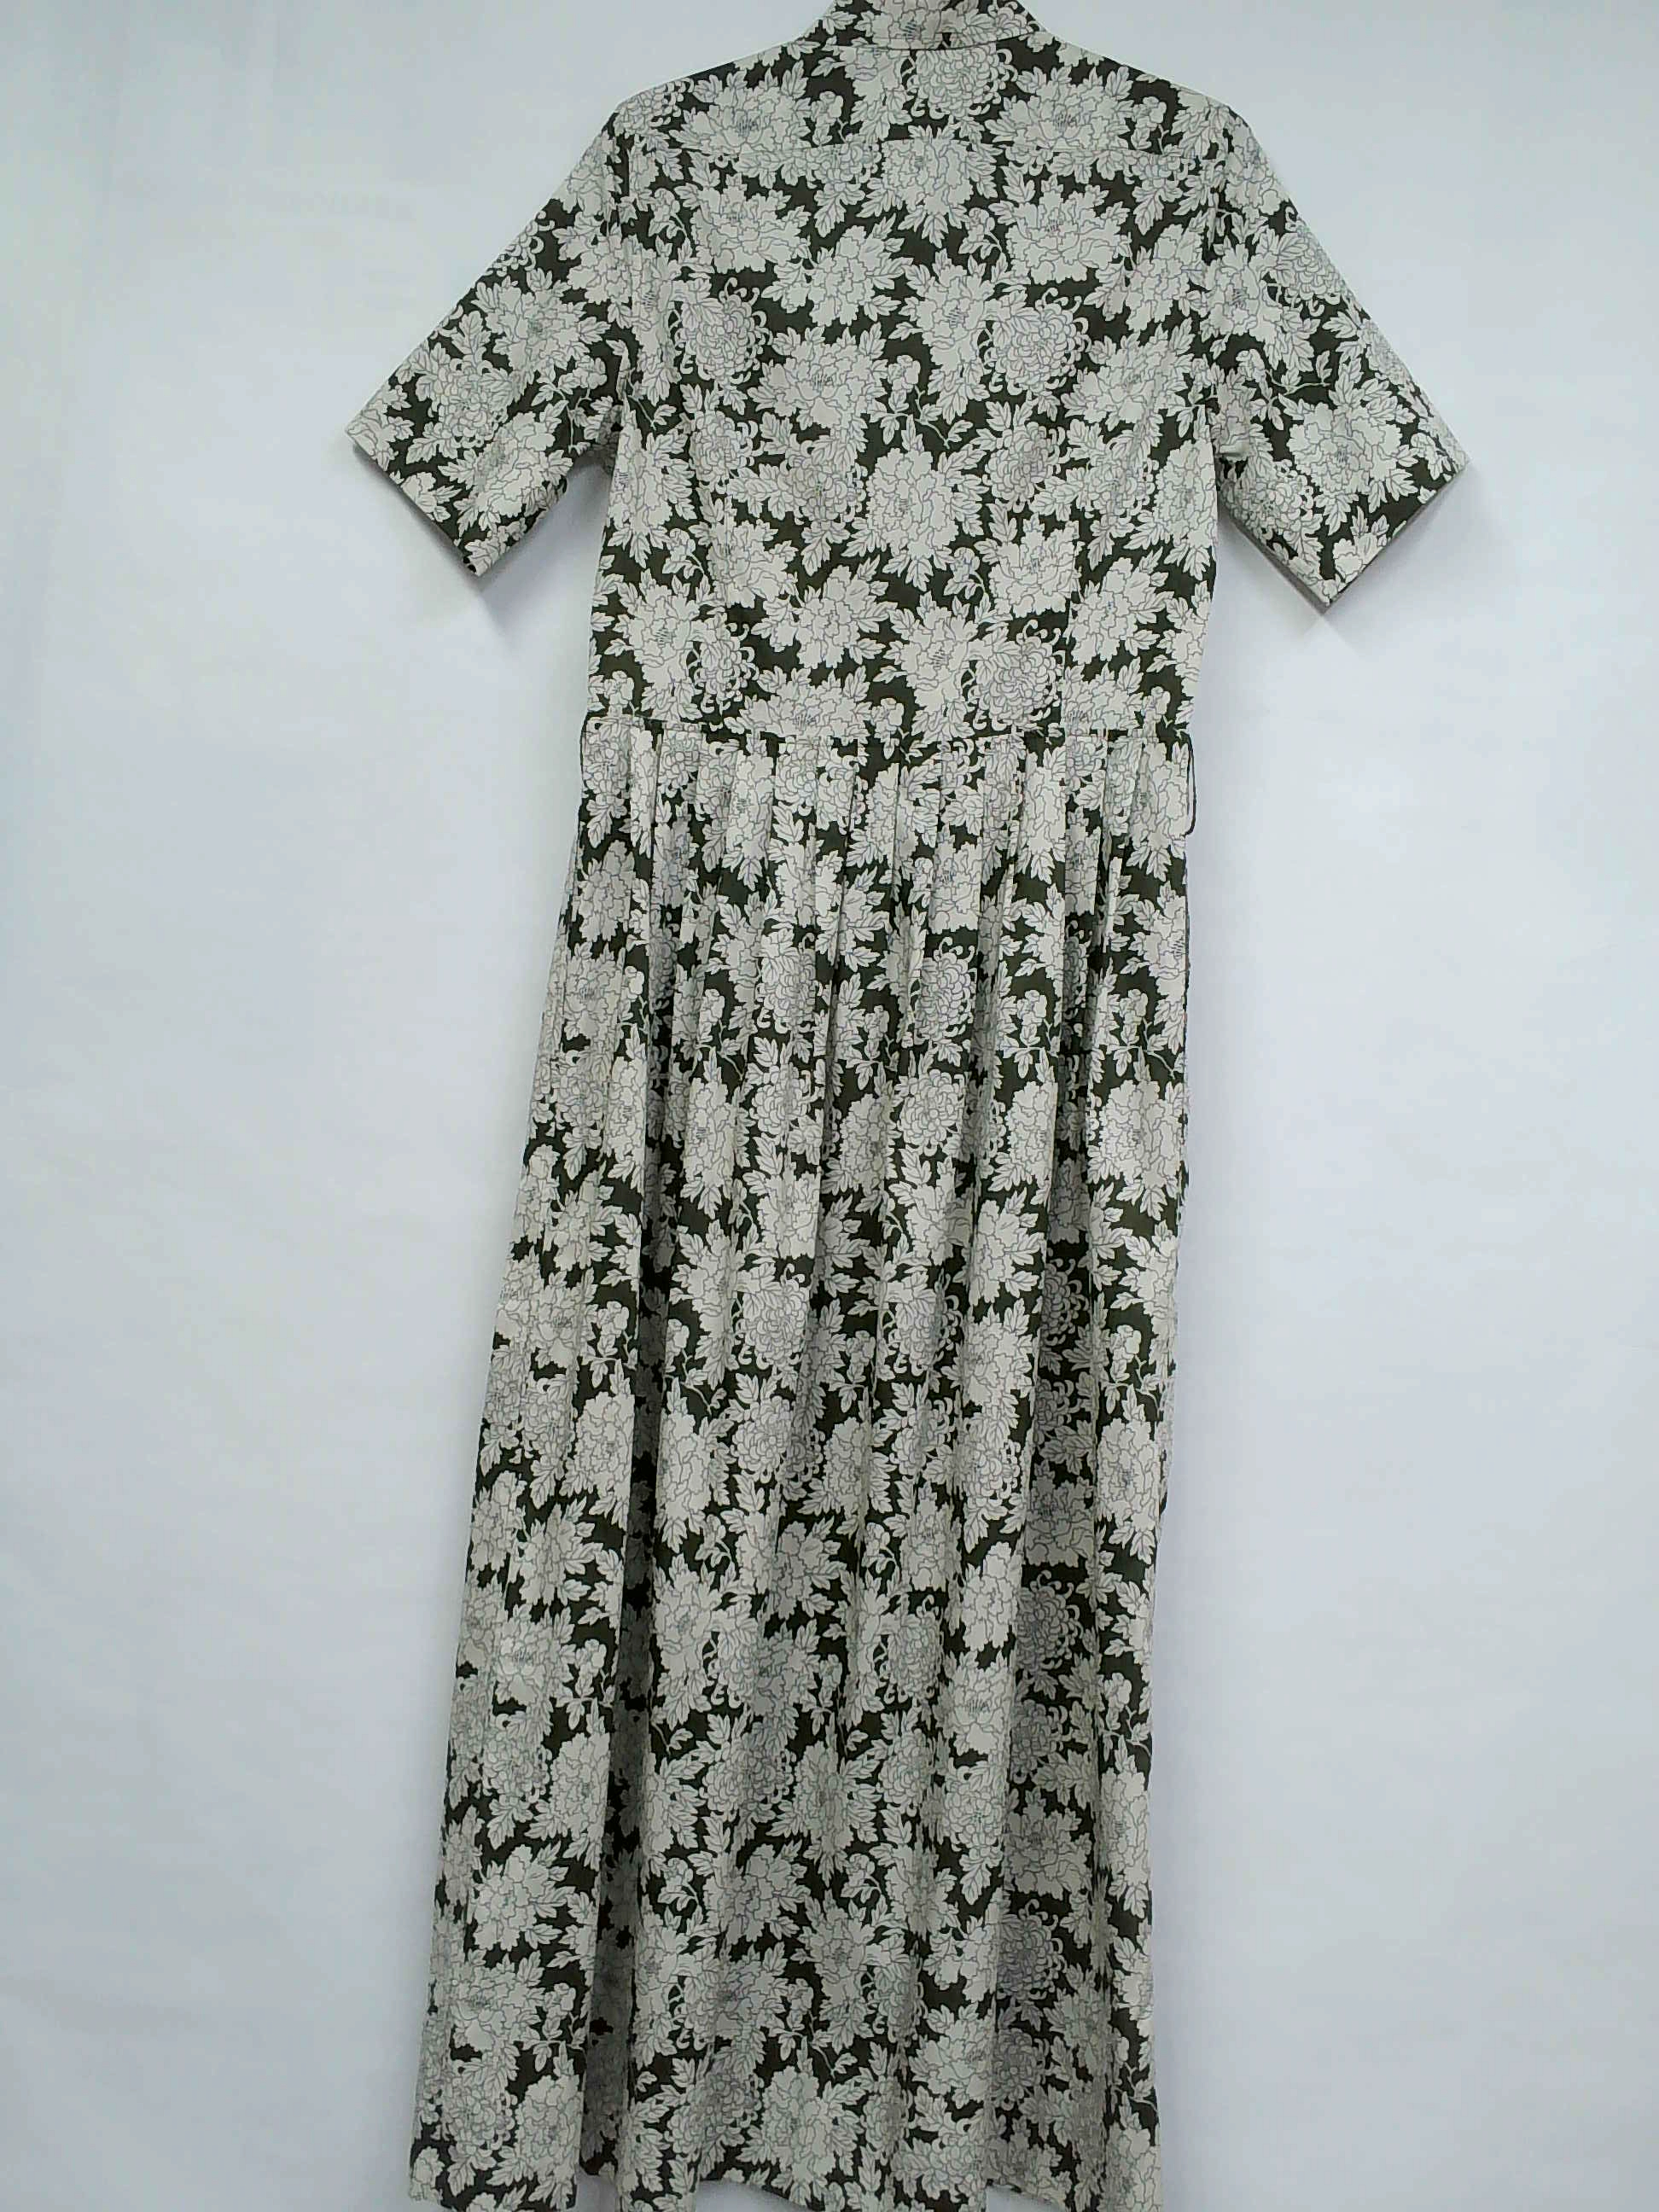seam: (580, 672, 803, 782)
